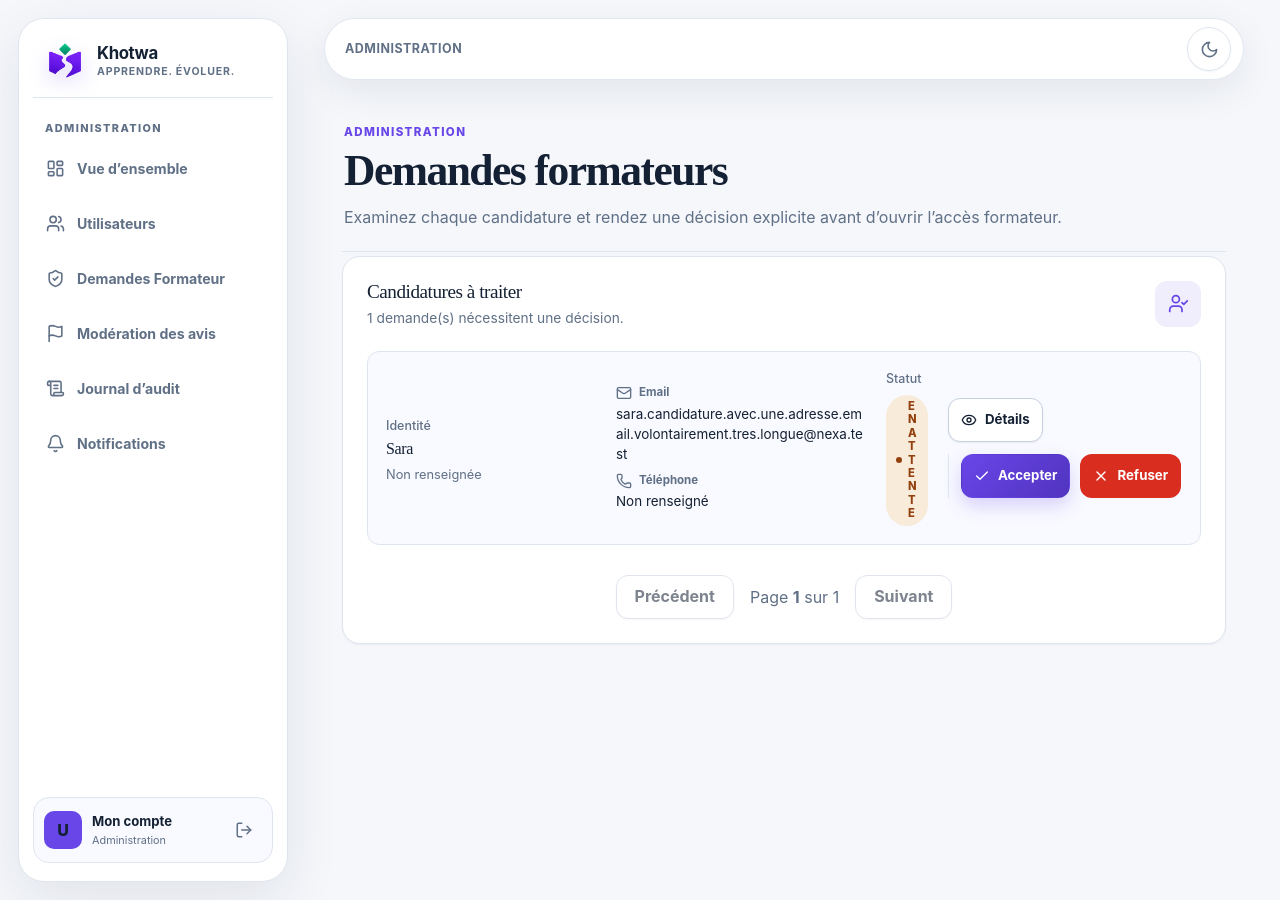
Test case: workflow administrateur des demandes formateurs › garde la demande visible quand le serveur refuse l’action
Step 1. Click the button "Accepter" → (1016, 476), box [961, 454, 1070, 498]
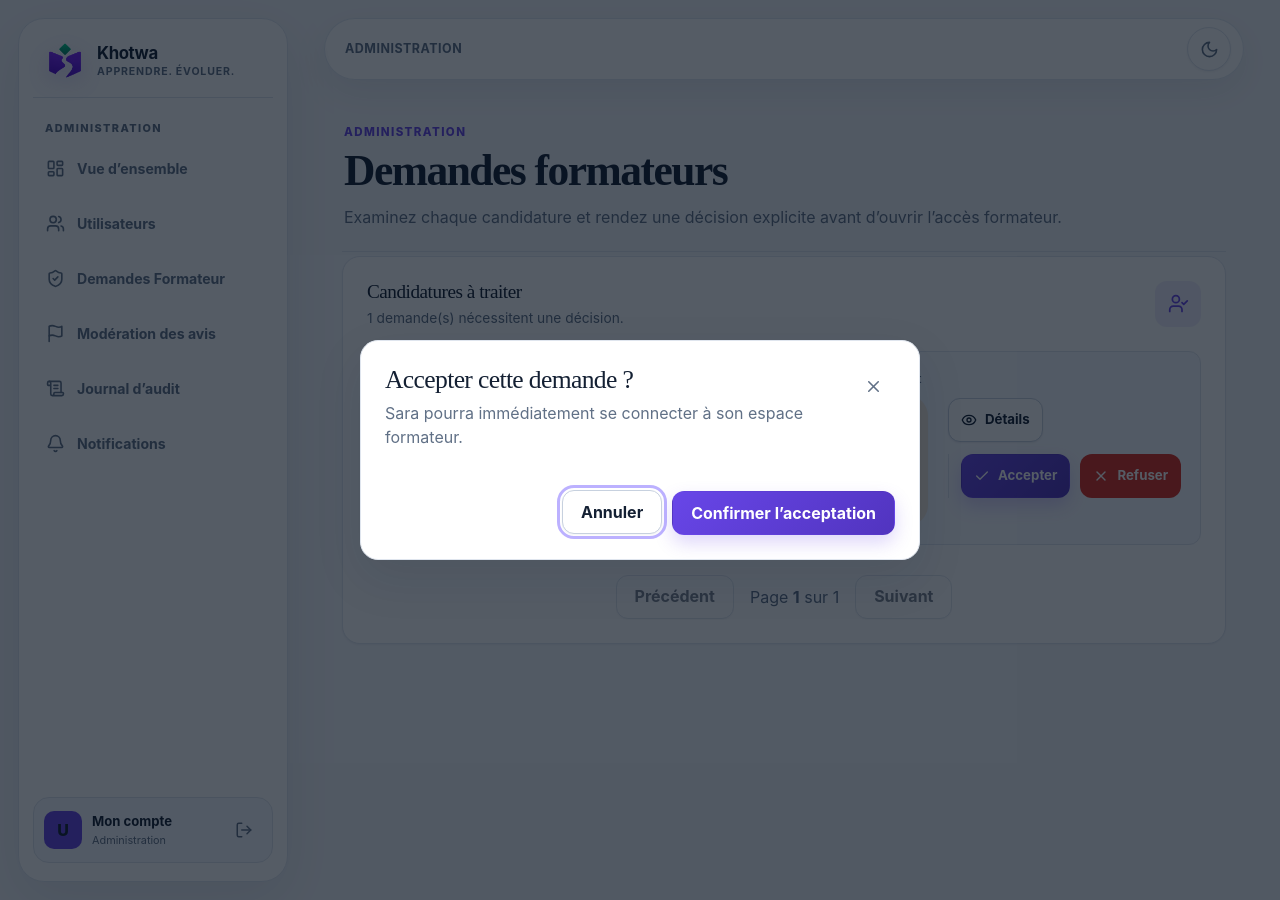
Step 2. Click the button "Confirmer l’acceptation" → (784, 513), box [672, 491, 895, 535]
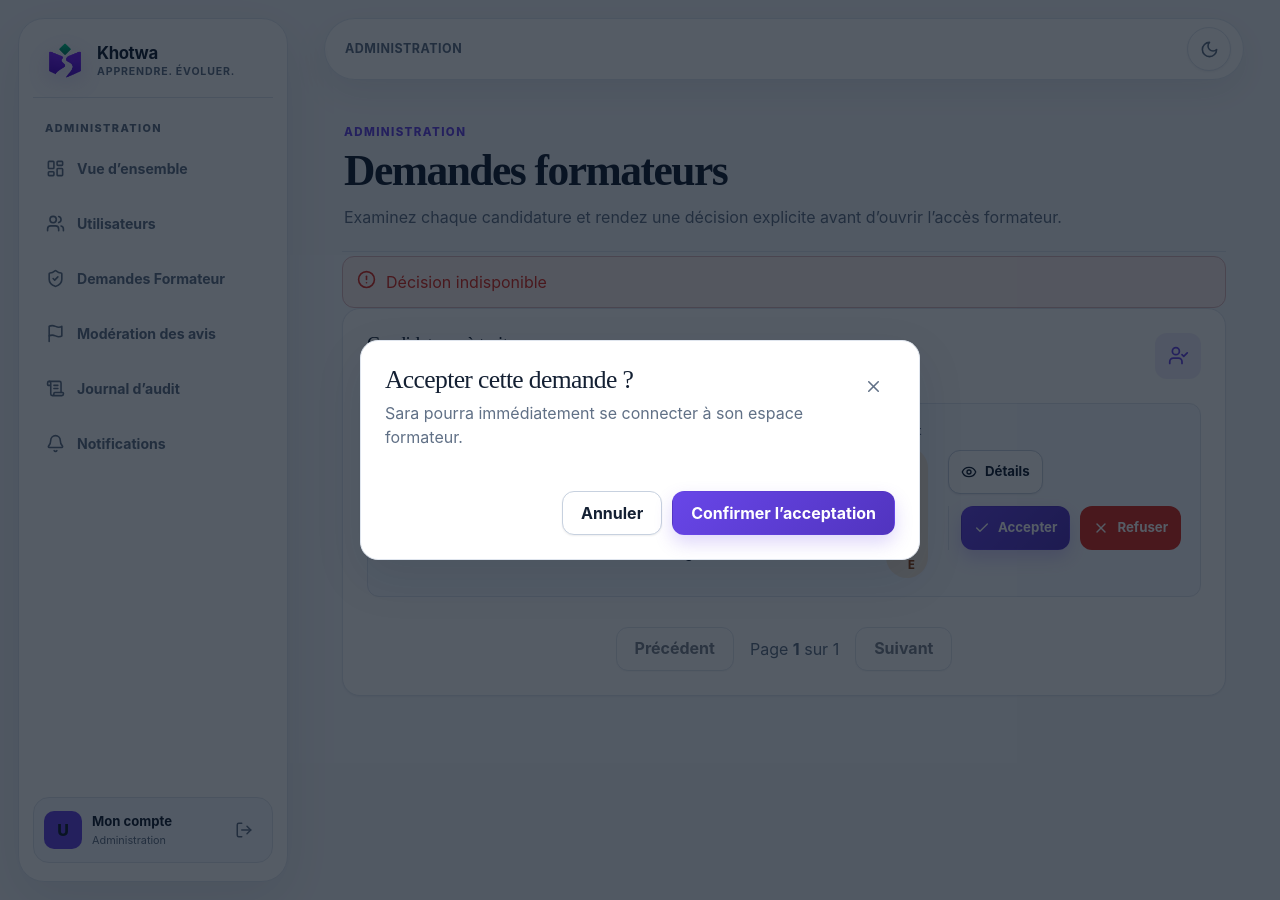
Expected: the dialog "Accepter cette demande ?" is shown, [360, 340, 920, 560]
Expected: the text "Décision indisponible" is shown, [386, 270, 547, 294]
